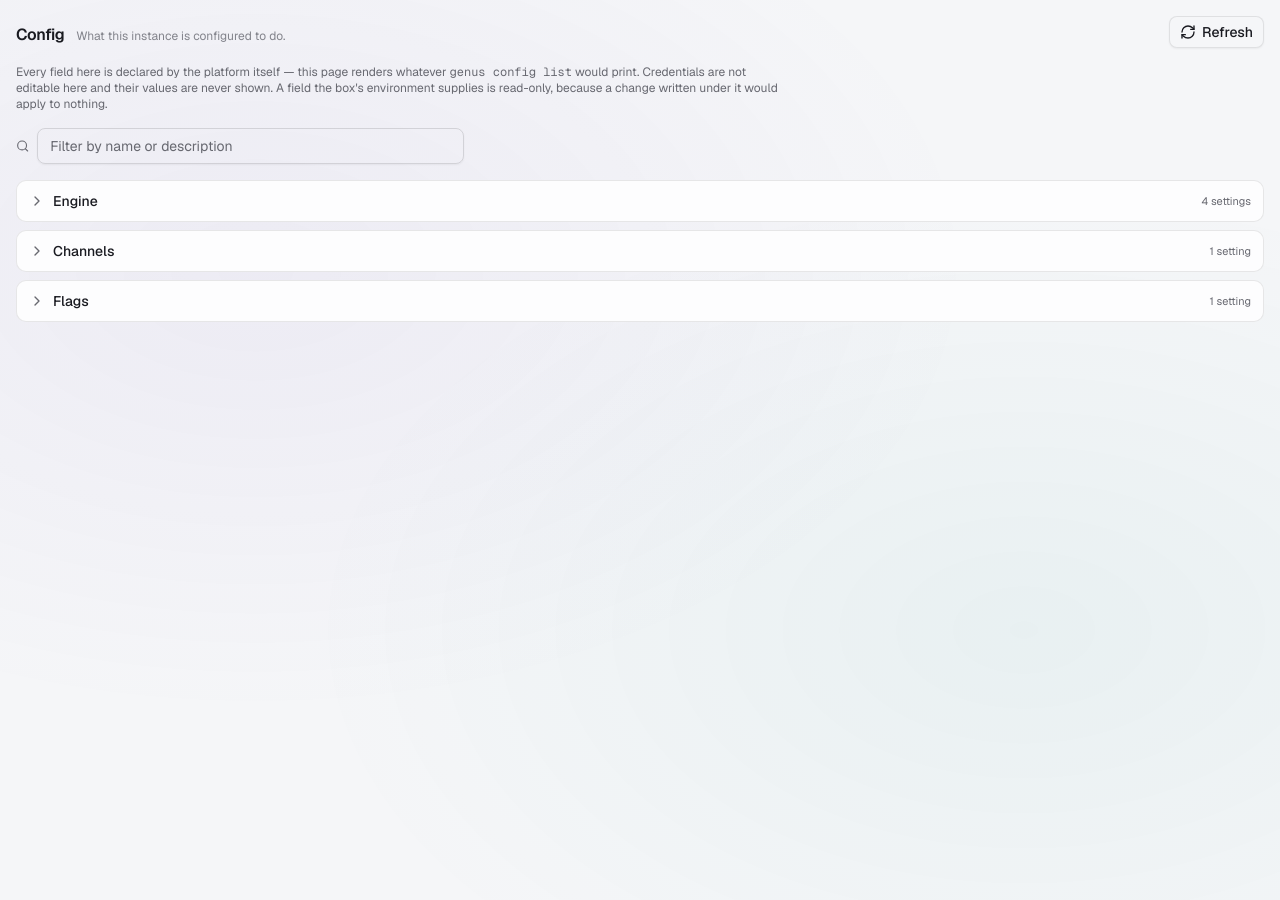
Test: Settings › Config › caps an over-long fingerprint rather than rendering whatever came back
Click the button with test id "config-group-toggle-channels" at (84, 251), box [17,231,1263,271]
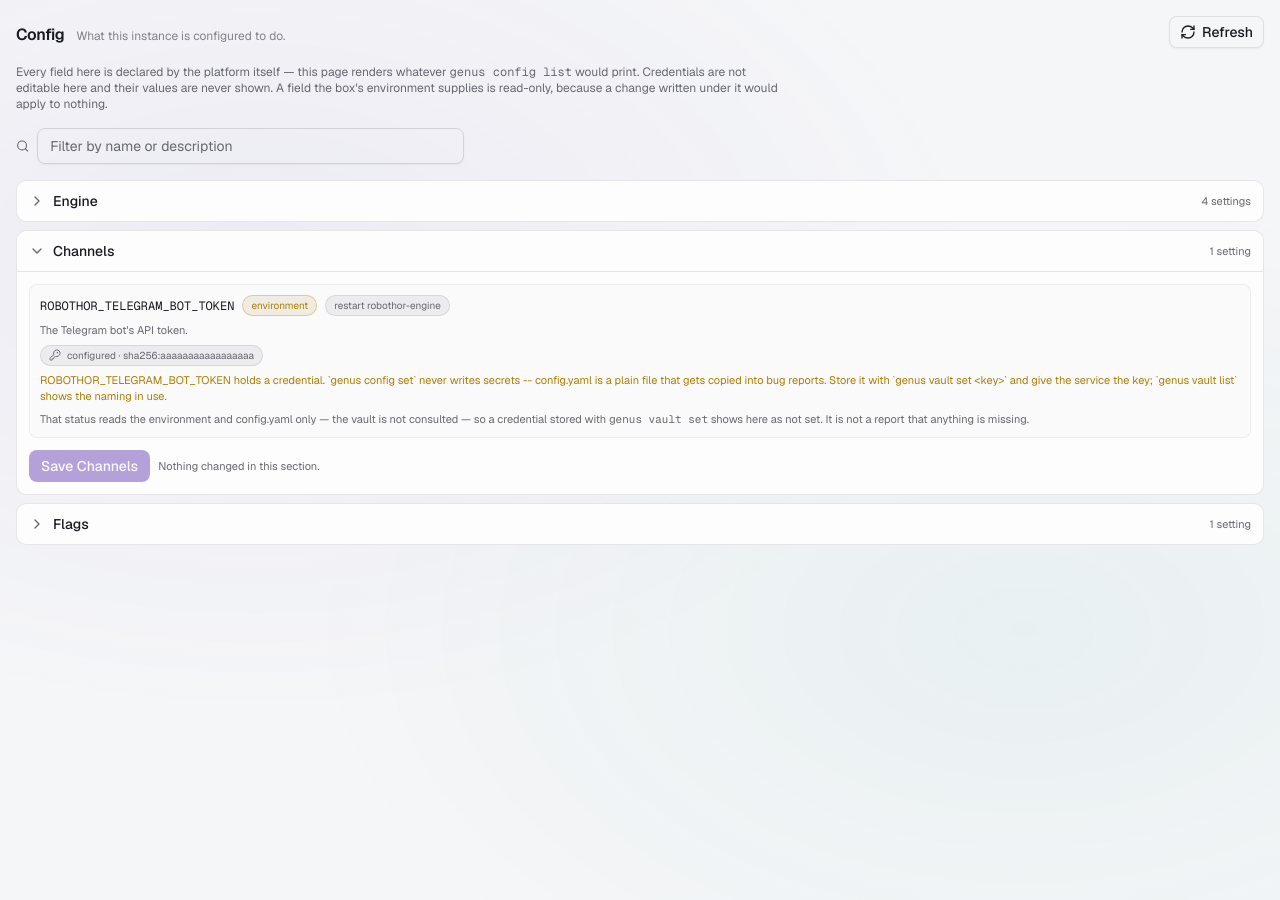
Check: the element with test id "config-secret-ROBOTHOR_TELEGRAM_BOT_TOKEN" shows "sha256:", box [67,348,254,362]
